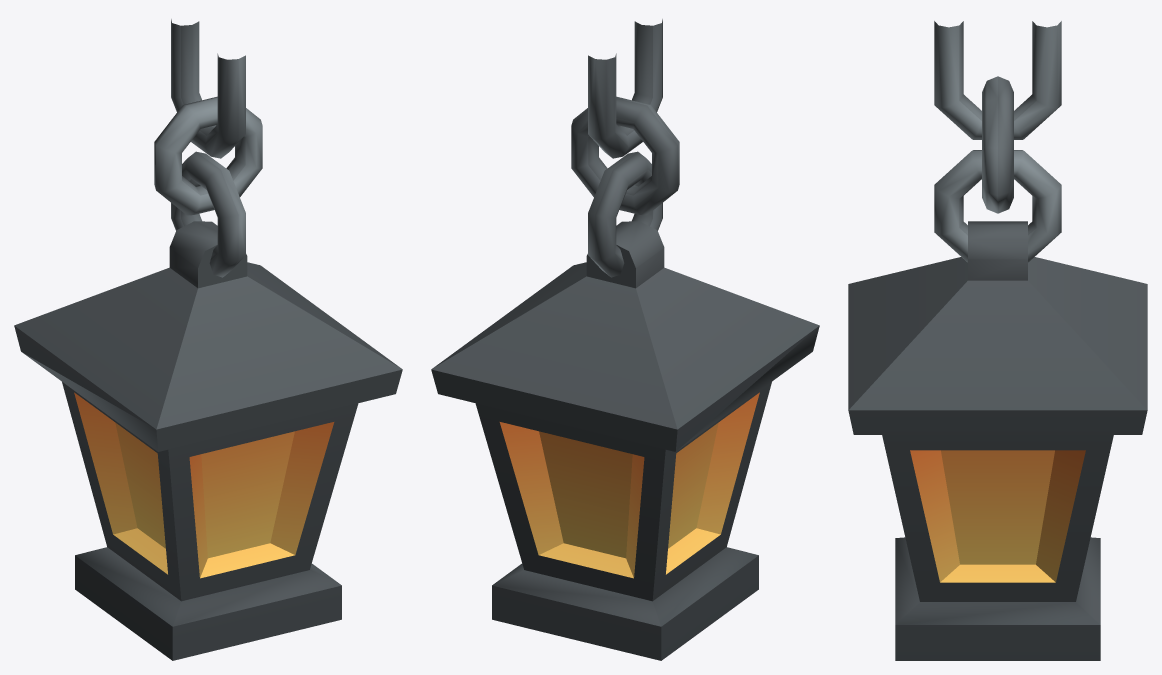
File: den-cua.glb
The picture shows the model from 3 angles, left to right: view 1: azimuth 30°, elevation 25°; view 2: azimuth 150°, elevation 25°; view 3: azimuth 270°, elevation 25°; orthographic projection. The views are drawn at different scales.
Visible parts, largest first — view 1: den-cua; view 2: den-cua; view 3: den-cua.
Part boxes in pixels (x1,y1,x2,y2): den-cua: (14,19,402,660); den-cua: (431,19,819,660); den-cua: (848,21,1147,660).
Size of the model in its own units: 0.5452 by 1.2 by 0.5452.
Materials: 1 (1 with a texture image).
